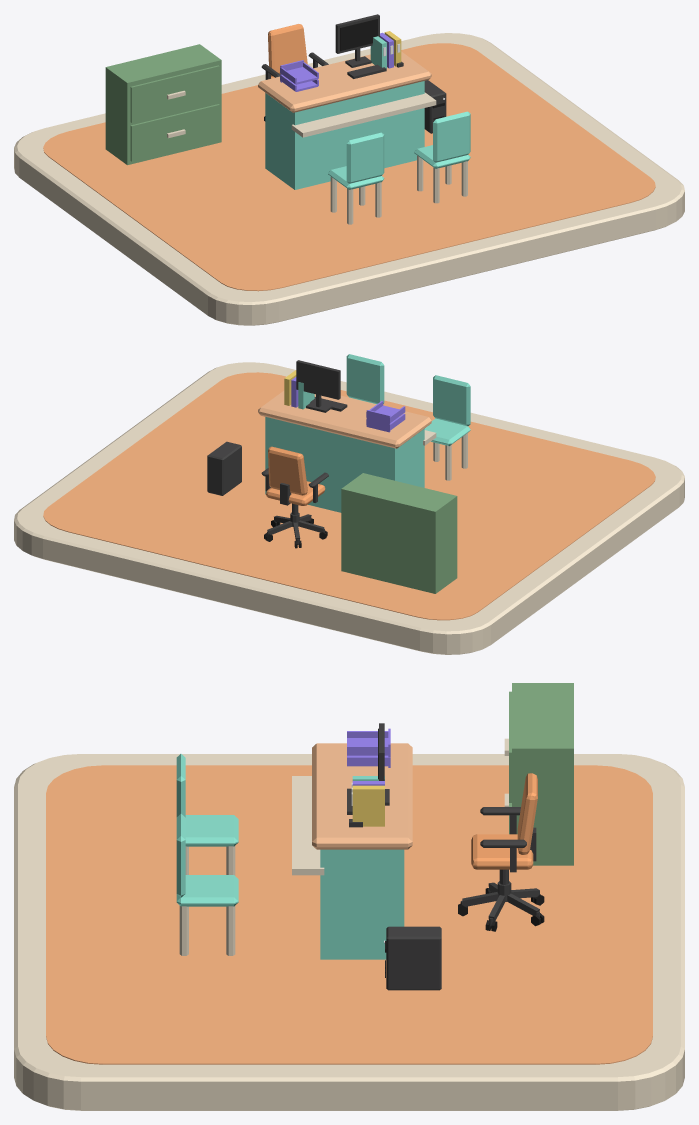
The model's file is room.fbx.
3 views of the same model, one above another, from view 1: azimuth 30°, elevation 25°; view 2: azimuth 150°, elevation 25°; view 3: azimuth 270°, elevation 25° (orthographic). The views are drawn at different scales.
Parts seen in each view (by area): view 1: COM-02 Floor Surface, COM-01 Rounded Base Direct, Cabinet, Counter body, Countertop, Visitor shelf, COM-04_Chair_blender_direct, Backrest, Backrest.001, Frame, Tower, Seat (+1 smaller); view 2: COM-02 Floor Surface, COM-01 Rounded Base Direct, Cabinet, Counter body, Countertop, COM-04_Chair_blender_direct, Backrest.001, Backrest, Tower, Frame, Seat; view 3: COM-02 Floor Surface, COM-01 Rounded Base Direct, Cabinet, Counter body, Countertop, COM-04_Chair_blender_direct, Tower, Visitor shelf, Seat.001, Seat, File.002, Backrest.001.
Part boxes in pixels (x1=…): COM-02 Floor Surface: x1=43, y1=43, x2=655, y2=291; COM-01 Rounded Base Direct: x1=14, y1=33, x2=684, y2=325; Cabinet: x1=105, y1=44, x2=221, y2=165; Counter body: x1=265, y1=81, x2=424, y2=189; Countertop: x1=258, y1=51, x2=431, y2=112; Visitor shelf: x1=291, y1=92, x2=436, y2=137; COM-04_Chair_blender_direct: x1=261, y1=24, x2=328, y2=121; Backrest: x1=346, y1=132, x2=384, y2=183; Backrest.001: x1=433, y1=111, x2=470, y2=162; Frame: x1=335, y1=14, x2=379, y2=67; Tower: x1=424, y1=80, x2=446, y2=133; Seat: x1=328, y1=166, x2=384, y2=189; COM-02 Floor Surface: x1=43, y1=372, x2=655, y2=620; COM-01 Rounded Base Direct: x1=14, y1=362, x2=684, y2=654; Cabinet: x1=341, y1=473, x2=457, y2=593; Counter body: x1=265, y1=417, x2=424, y2=512; Countertop: x1=258, y1=390, x2=431, y2=448; COM-04_Chair_blender_direct: x1=261, y1=446, x2=328, y2=548; Backrest.001: x1=346, y1=354, x2=384, y2=403; Backrest: x1=433, y1=375, x2=470, y2=426; Tower: x1=207, y1=441, x2=241, y2=495; Frame: x1=296, y1=360, x2=340, y2=412; Seat: x1=424, y1=418, x2=470, y2=446; COM-02 Floor Surface: x1=46, y1=765, x2=652, y2=1064; COM-01 Rounded Base Direct: x1=14, y1=754, x2=684, y2=1110; Cabinet: x1=504, y1=683, x2=573, y2=865; Counter body: x1=320, y1=849, x2=404, y2=959; Countertop: x1=312, y1=743, x2=412, y2=849; COM-04_Chair_blender_direct: x1=458, y1=773, x2=544, y2=931; Tower: x1=386, y1=926, x2=441, y2=990; Visitor shelf: x1=292, y1=776, x2=324, y2=875; Seat.001: x1=176, y1=875, x2=238, y2=906; Seat: x1=185, y1=815, x2=238, y2=846; File.002: x1=352, y1=785, x2=384, y2=826; Backrest.001: x1=176, y1=814, x2=185, y2=897.
Size of the model in its own units: 600 by 192 by 520.
